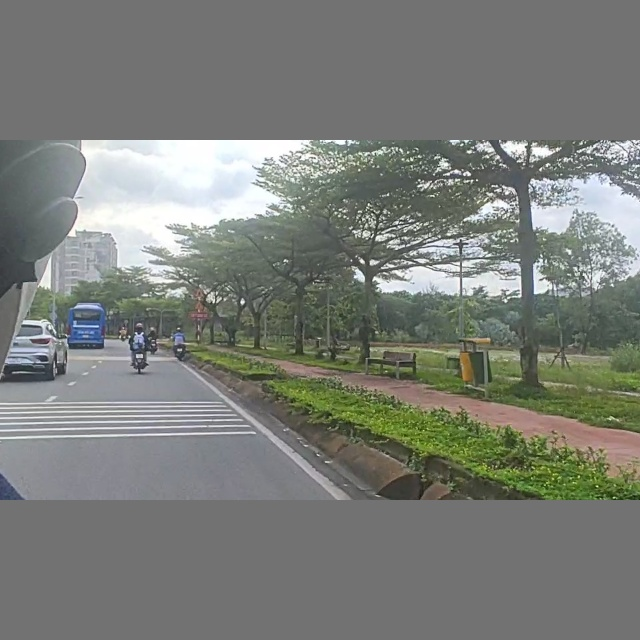W.224: (193, 301, 206, 310)
